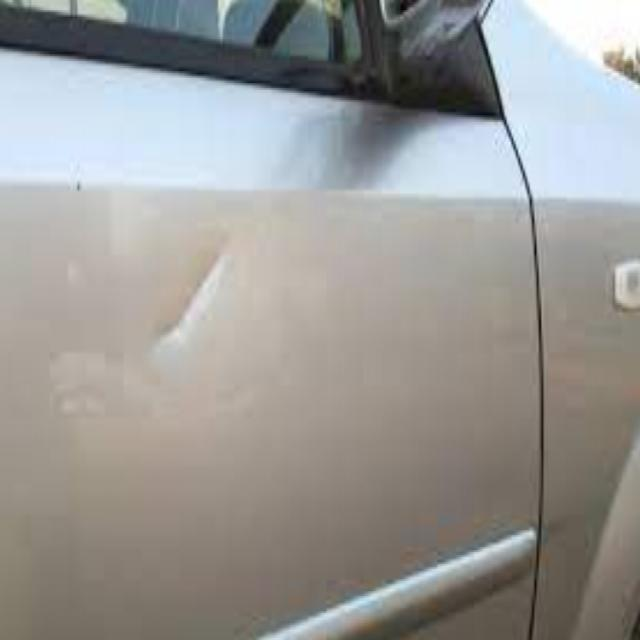dents: (146, 223, 239, 359)
